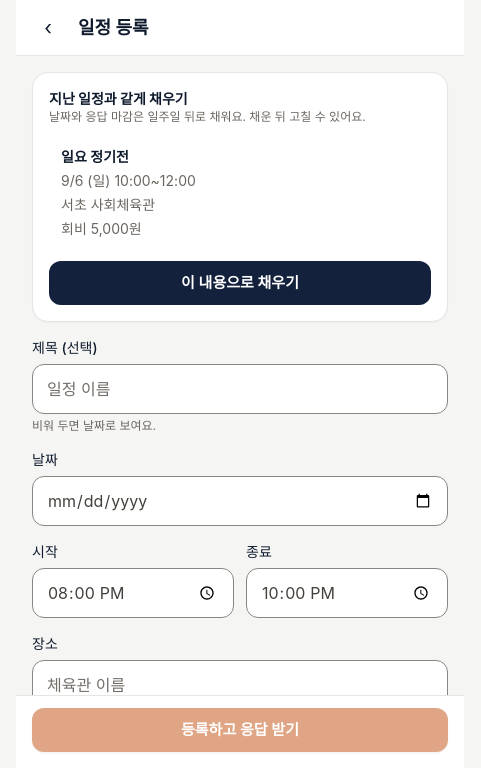
Scenario: EventCreatePage › 종료를 직접 고치면 그 진행 시간이 이후 시작 변경에도 유지된다
Expected: the button "이 내용으로 채우기" is shown, x1=49 y1=261 x2=431 y2=305
Replace the text in the time field labelled "종료" with "23:00" at (347, 593), box x1=246 y1=568 x2=448 y2=618
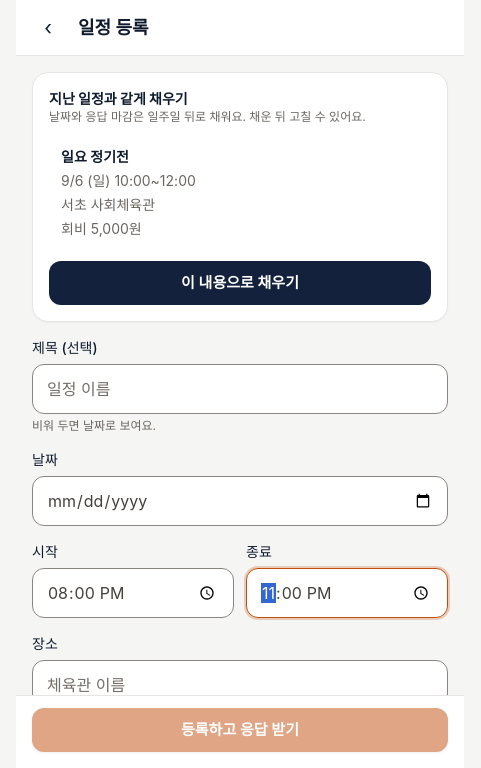
Replace the text in the time field labelled "시작" with "19:00" at (133, 593), box x1=32 y1=568 x2=234 y2=618
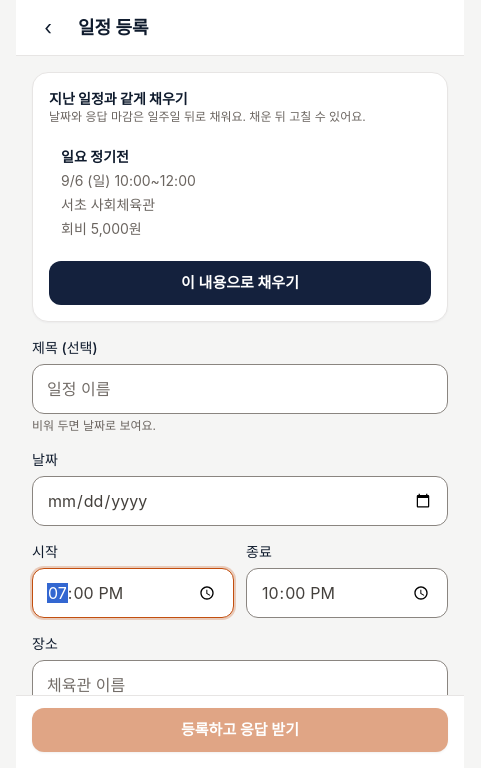
Expected: the time field labelled "종료" holds "22:00", x1=246 y1=568 x2=448 y2=618
